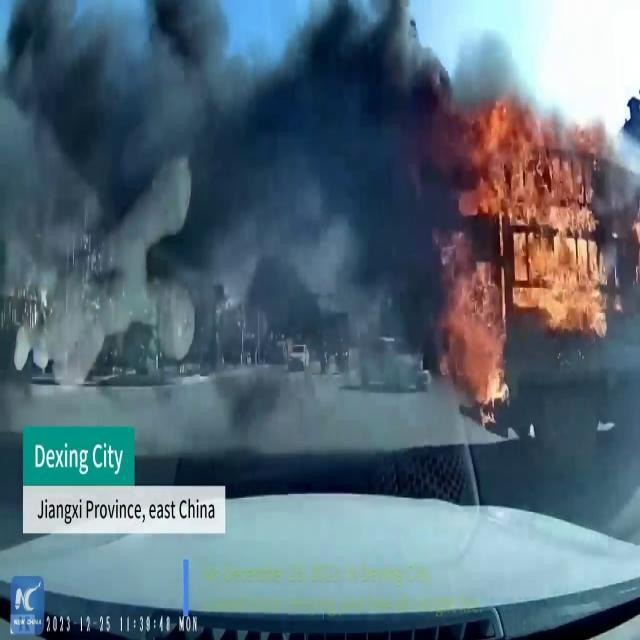Fire: (445, 68, 611, 410)
Smoke: (1, 0, 470, 359)
